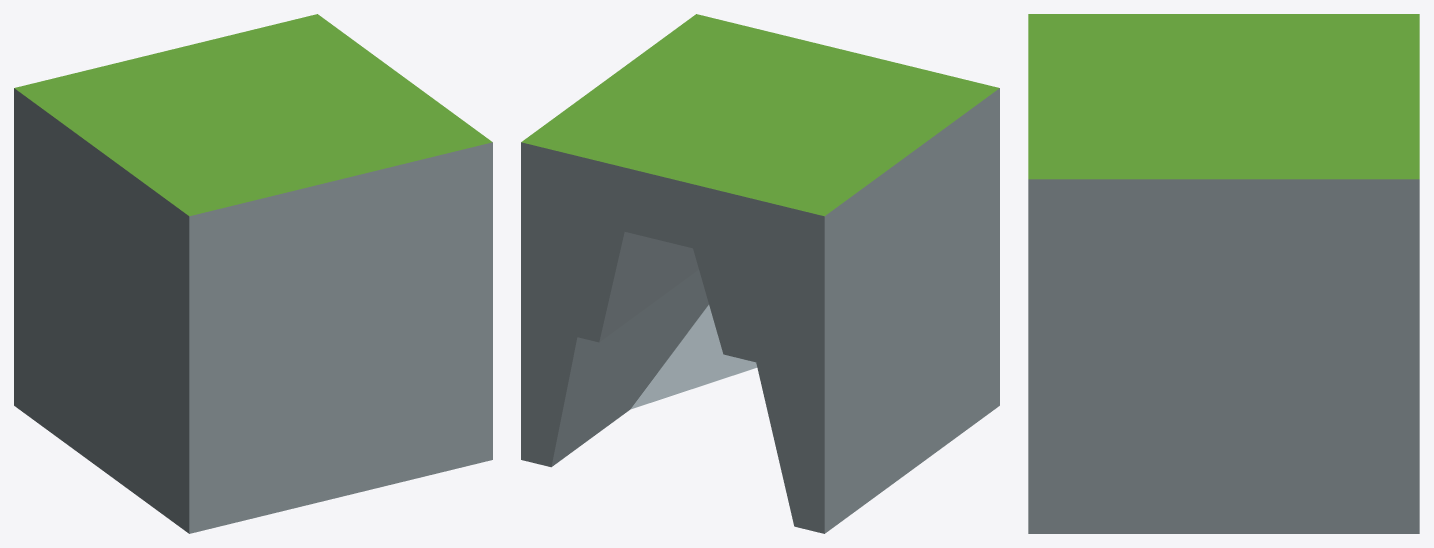
File: cliff_blockCave_stone.glb
The picture shows the model from 3 angles, left to right: view 1: azimuth 30°, elevation 25°; view 2: azimuth 150°, elevation 25°; view 3: azimuth 270°, elevation 25°; orthographic projection. The views are drawn at different scales.
Parts seen in each view (by area): view 1: cliff_blockCave_stone; view 2: cliff_blockCave_stone; view 3: cliff_blockCave_stone.
Part boxes in pixels (x1=…): cliff_blockCave_stone: x1=14, y1=14, x2=492, y2=533; cliff_blockCave_stone: x1=521, y1=14, x2=999, y2=533; cliff_blockCave_stone: x1=1028, y1=14, x2=1419, y2=533.
Size of the model in its own units: 1 by 1 by 1.
